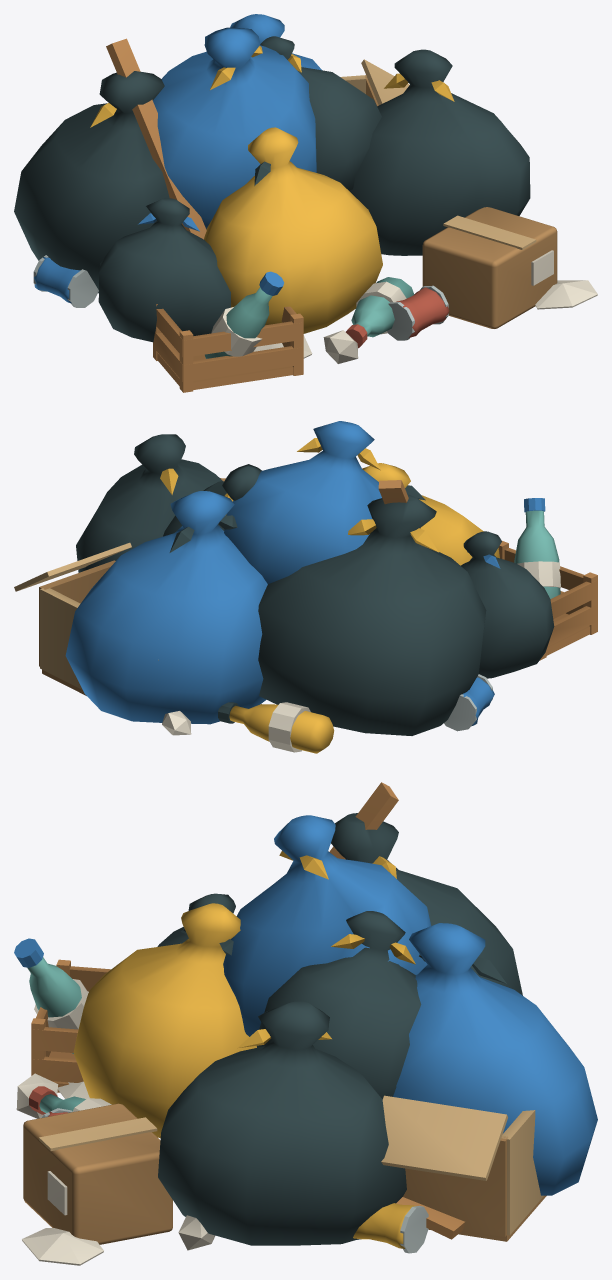
The model's file is waste-pile.glb.
The picture shows the model from 3 angles, top to bottom: view 1: azimuth 30°, elevation 25°; view 2: azimuth 150°, elevation 25°; view 3: azimuth 270°, elevation 25°; orthographic projection. The views are drawn at different scales.
Visible parts, largest first — view 1: tied refuse sack, sack tie, tied refuse sack.001, taped carton, crate floor, carton label, discarded bottle, parcel tape, aluminium can end, crumpled drink can; view 2: tied refuse sack, tied refuse sack.001, sack tie, crate floor, parcel tape, carton label, discarded bottle, taped carton, aluminium can end; view 3: tied refuse sack, tied refuse sack.001, sack tie, taped carton, parcel tape, carton label, crate floor, discarded bottle, aluminium can end.
Part boxes in pixels (box(x1,y1,x2,y2)): tied refuse sack: box(14, 36, 530, 342); sack tie: box(90, 46, 454, 333); tied refuse sack.001: box(34, 14, 321, 303); taped carton: box(365, 76, 557, 328); crate floor: box(106, 38, 303, 392); carton label: box(211, 250, 597, 363); discarded bottle: box(205, 277, 414, 358); parcel tape: box(340, 59, 536, 249); aluminium can end: box(33, 255, 448, 340); crumpled drink can: box(346, 287, 449, 348); tied refuse sack: box(76, 434, 554, 735); tied refuse sack.001: box(65, 421, 545, 726); sack tie: box(160, 438, 499, 753); crate floor: box(378, 480, 597, 660); parcel tape: box(14, 542, 158, 689); carton label: box(162, 561, 560, 752); discarded bottle: box(514, 510, 560, 598); taped carton: box(39, 478, 225, 695); aluminium can end: box(444, 674, 492, 731); tied refuse sack: box(157, 813, 522, 1245); tied refuse sack.001: box(14, 815, 597, 1195); sack tie: box(73, 851, 415, 1248); taped carton: box(23, 1103, 546, 1244); parcel tape: box(39, 1095, 543, 1235); carton label: box(16, 979, 214, 1265); crate floor: box(31, 782, 464, 1239); discarded bottle: box(27, 957, 85, 1113); aluminium can end: box(42, 1108, 428, 1253).
Bounding box in the file's own units: 1.19 × 0.6698 × 1.16.
